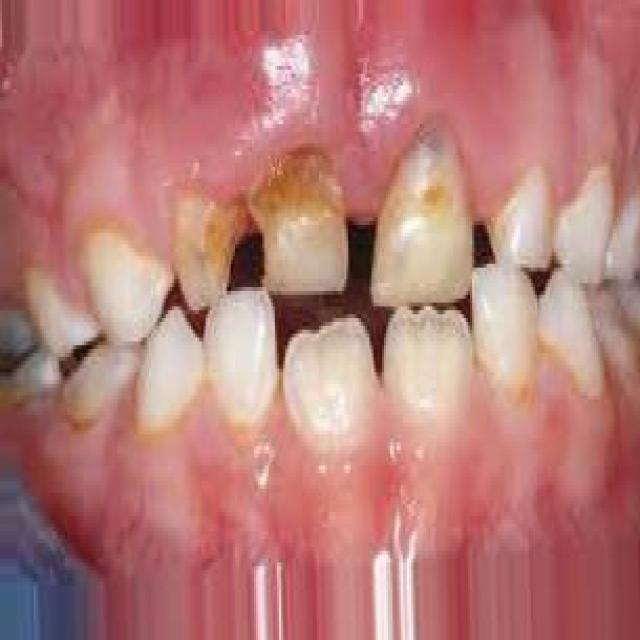caries: (246, 126, 352, 300), (372, 126, 474, 300), (178, 178, 246, 296)
